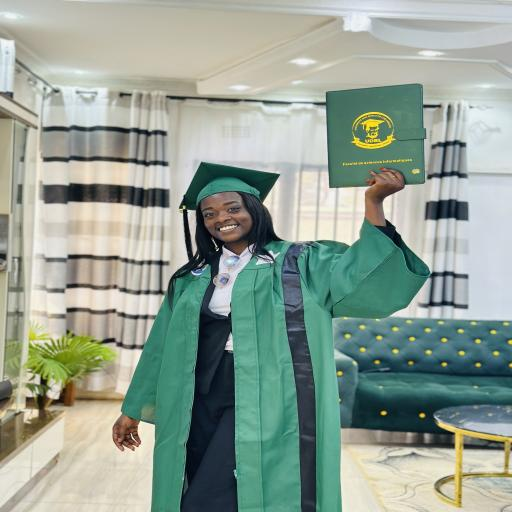LAURENE: (196, 184, 279, 248)
